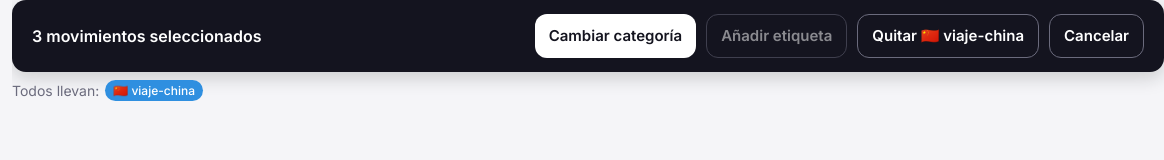
Test case: BulkActionsBar › si quitar falla, lo dice y no pierde la selección
The width and height of the screenshot is (1164, 160).
What coordinates should you click on to do the following:
click the button "Quitar 🇨🇳 viaje-china"
I would click on:
 (948, 36)
Its box is x1=857 y1=14 x2=1039 y2=58.
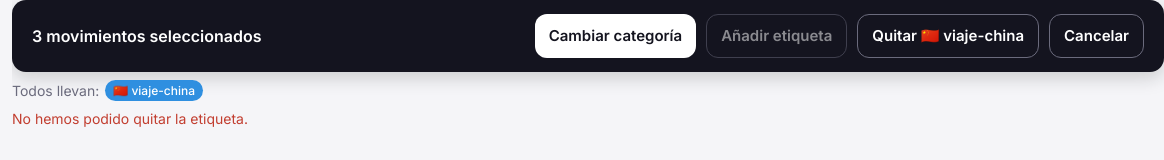
Result: the text "No hemos podido quitar la etiqueta." is shown at x1=12 y1=110 x2=248 y2=127
